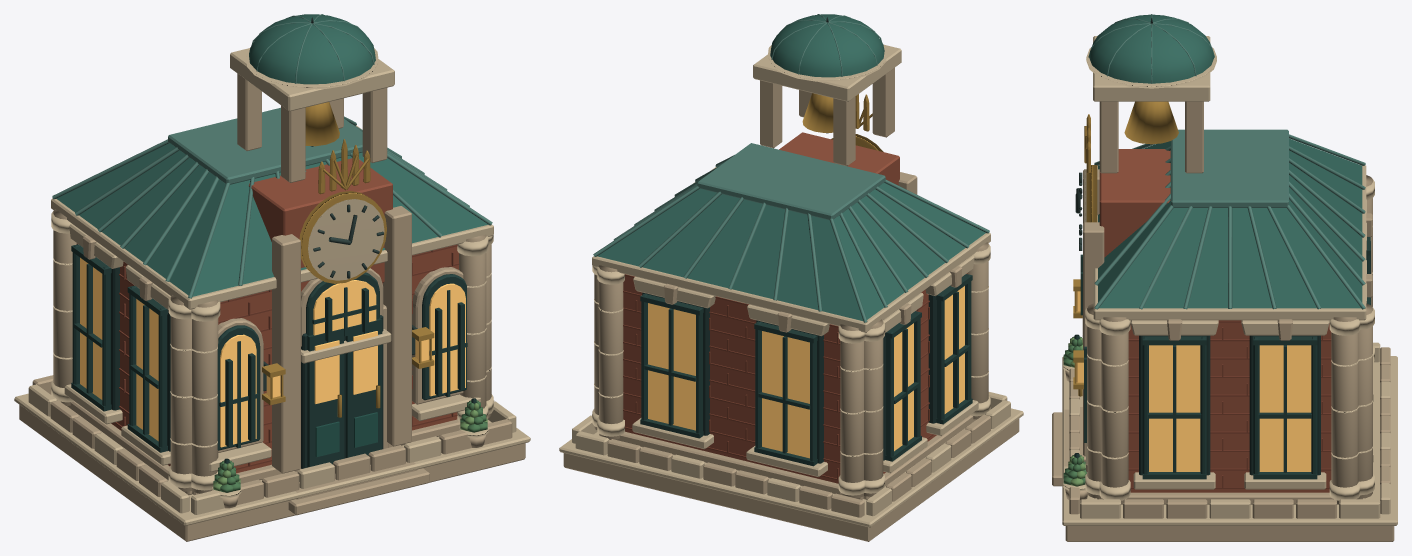
3 renders of one model, left to right at view 1: azimuth 30°, elevation 25°; view 2: azimuth 150°, elevation 25°; view 3: azimuth 270°, elevation 25°, orthographic. The views are drawn at different scales.
Visible parts, largest first — view 1: expansion_civic_hall_geometry; view 2: expansion_civic_hall_geometry; view 3: expansion_civic_hall_geometry.
Boxes of the visible parts, x1,y1,x2,y2 form: expansion_civic_hall_geometry: (14,14,530,541); expansion_civic_hall_geometry: (559,14,1023,541); expansion_civic_hall_geometry: (1052,14,1397,541).
Size of the model in its own units: 1.04 by 1.29 by 0.9159.
